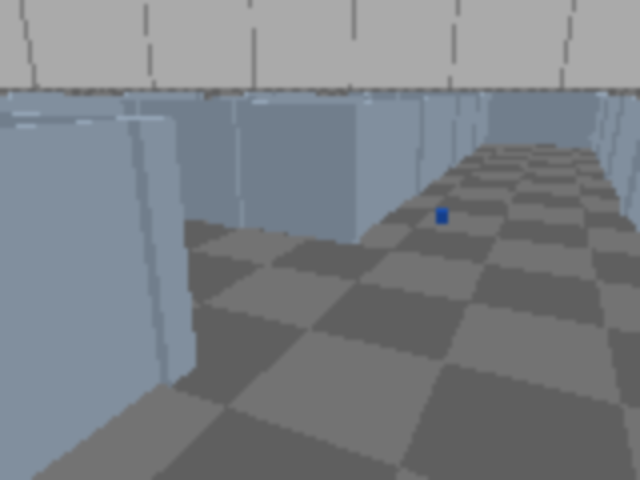puck: (434, 207, 450, 225)
